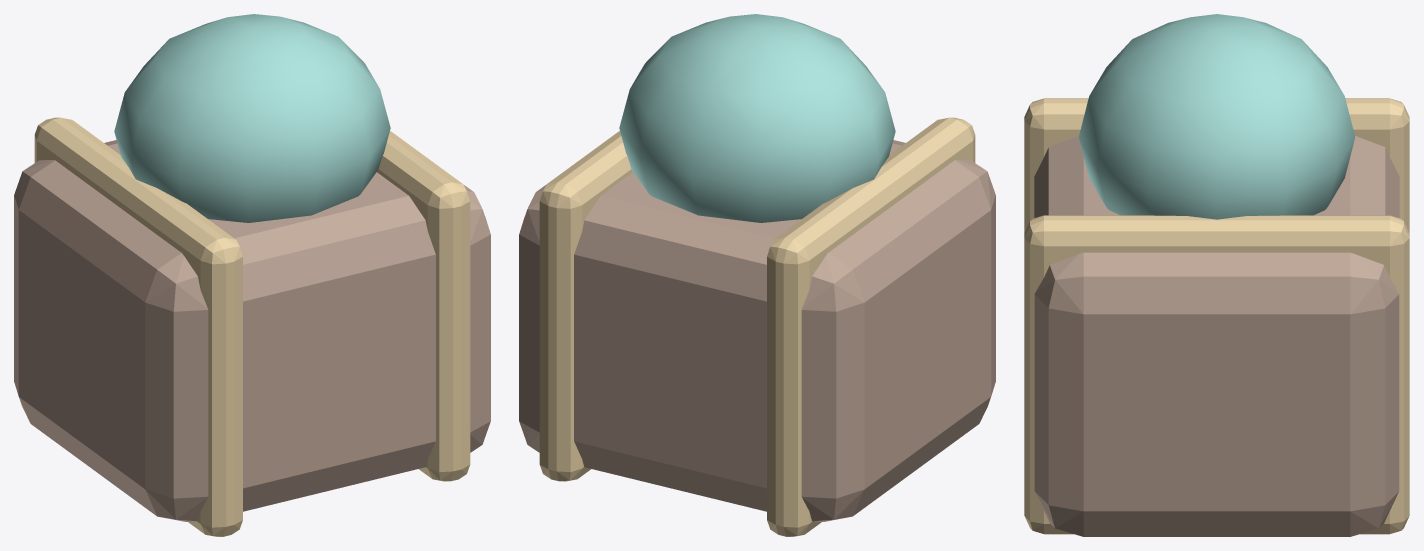
Rendered from salvage.glb.
The picture shows the model from 3 angles, left to right: view 1: azimuth 30°, elevation 25°; view 2: azimuth 150°, elevation 25°; view 3: azimuth 270°, elevation 25°; orthographic projection. The views are drawn at different scales.
Parts seen in each view (by area): view 1: salvage_Salvaged_teak, salvage_Enamel_jade, salvage_Diver_brass; view 2: salvage_Salvaged_teak, salvage_Enamel_jade, salvage_Diver_brass; view 3: salvage_Salvaged_teak, salvage_Enamel_jade, salvage_Diver_brass.
Boxes of the visible parts, box(x1,y1,x2,y2) form: salvage_Salvaged_teak: box(14, 140, 490, 521); salvage_Enamel_jade: box(114, 14, 390, 222); salvage_Diver_brass: box(34, 117, 470, 536); salvage_Salvaged_teak: box(519, 140, 995, 521); salvage_Enamel_jade: box(619, 14, 895, 222); salvage_Diver_brass: box(539, 117, 975, 536); salvage_Salvaged_teak: box(1034, 136, 1399, 536); salvage_Enamel_jade: box(1078, 14, 1355, 219); salvage_Diver_brass: box(1024, 98, 1409, 534).
Bounding box in the file's own units: 0.42 × 0.495 × 0.39.
